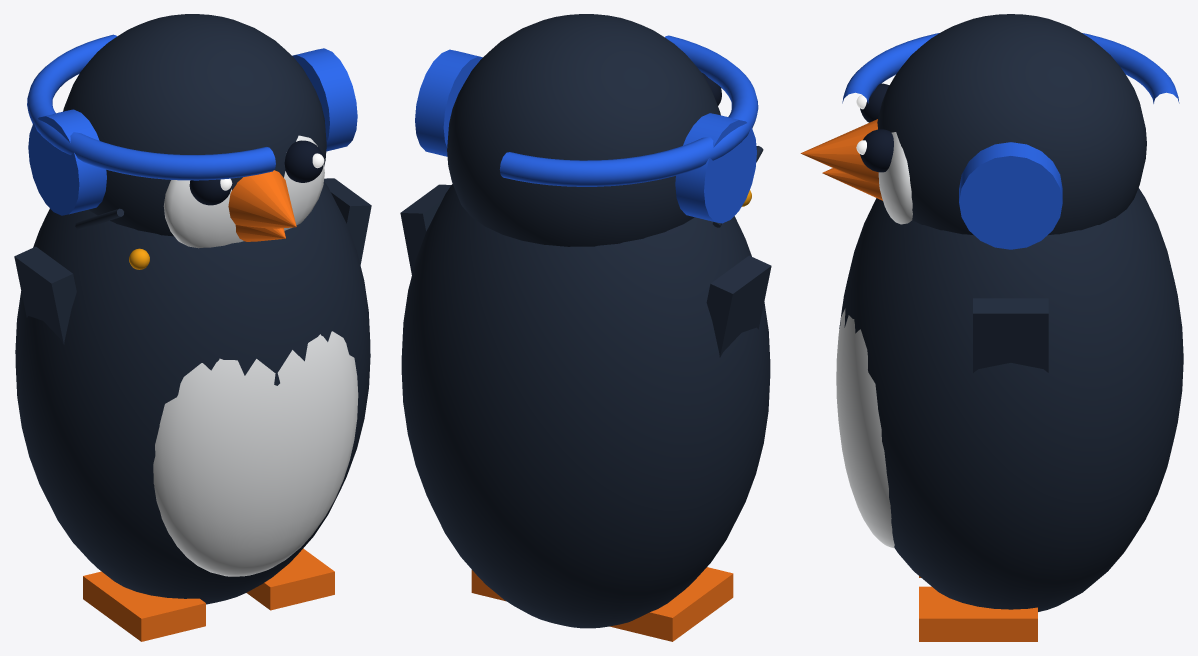
File: Meshy_AI_VSB_Tech_Penguin_1012173021_texture.glb
3 renders of one model, left to right at view 1: azimuth 30°, elevation 25°; view 2: azimuth 150°, elevation 25°; view 3: azimuth 270°, elevation 25°, orthographic. The views are drawn at different scales.
Parts seen in each view (by area): view 1: Body, Belly, Head_Mesh, Headphone_Band, EarPad_Left, Face_White, Foot_Left, Wing_Left, EarPad_Right, Beak_Upper, Foot_Right, Wing_Right (+4 smaller); view 2: Body, Head_Mesh, Headphone_Band, EarPad_Left, Wing_Left, EarPad_Right, Foot_Left, Wing_Right; view 3: Body, Head_Mesh, EarPad_Right, Belly, Wing_Right, Foot_Right, Headphone_Band, Beak_Upper, Face_White, Eye_Right, Beak_Lower, Eye_Left.
Boxes of the visible parts, x1,y1,x2,y2 form: Body: (15,181,370,604); Belly: (153,331,358,576); Head_Mesh: (63,14,326,236); Headphone_Band: (27,34,275,180); EarPad_Left: (28,109,106,215); Face_White: (163,135,324,248); Foot_Left: (83,571,205,641); Wing_Left: (14,246,76,344); EarPad_Right: (292,48,357,151); Beak_Upper: (228,170,296,228); Foot_Right: (246,548,334,610); Wing_Right: (324,178,371,264); Body: (401,184,770,628); Head_Mesh: (447,14,720,246); Headphone_Band: (499,35,758,186); EarPad_Left: (675,113,756,223); Wing_Left: (706,255,771,357); EarPad_Right: (415,49,482,156); Foot_Left: (609,567,733,641); Wing_Right: (400,184,451,274); Body: (839,188,1183,611); Head_Mesh: (877,14,1146,235); EarPad_Right: (959,142,1062,249); Belly: (836,305,894,548); Wing_Right: (973,298,1048,372); Foot_Right: (919,586,1037,641); Headphone_Band: (842,33,1179,103); Beak_Upper: (800,119,879,185); Face_White: (878,132,912,224); Eye_Right: (860,129,893,172); Beak_Lower: (822,168,882,200); Eye_Left: (860,83,889,122).
Bounding box in the file's own units: 1.74 × 2.94 × 1.78.
